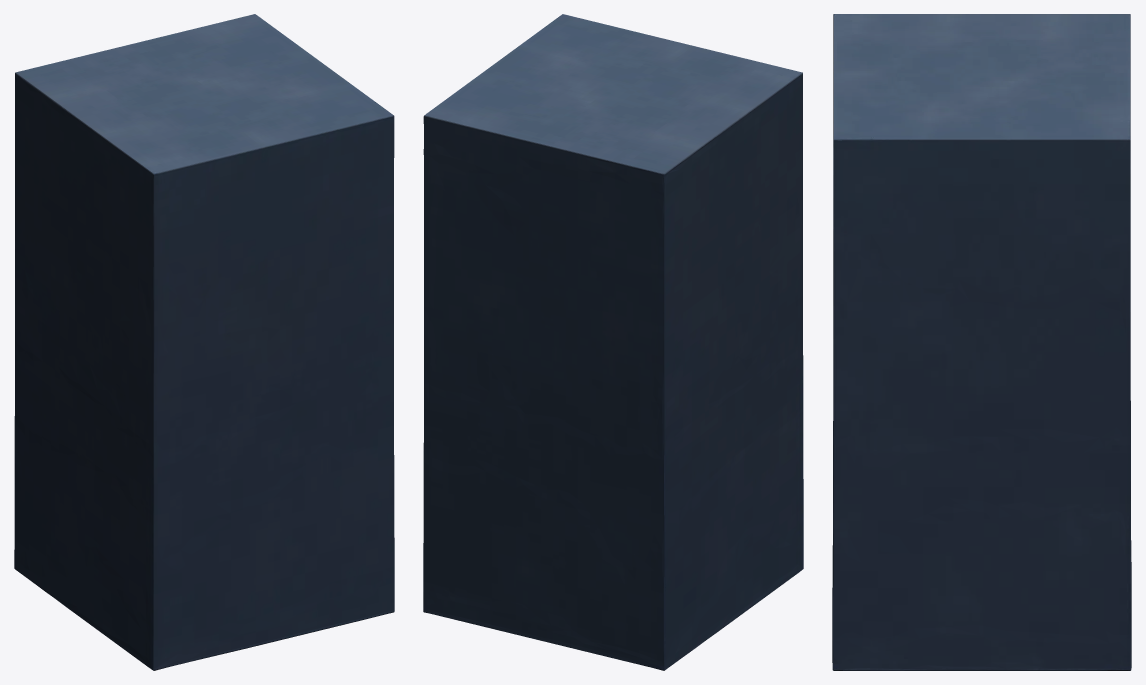
3 views of the same model, side by side, from view 1: azimuth 30°, elevation 25°; view 2: azimuth 150°, elevation 25°; view 3: azimuth 270°, elevation 25° (orthographic). The views are drawn at different scales.
Visible parts, largest first — view 1: world; view 2: world; view 3: world.
Boxes of the visible parts, x1,y1,x2,y2 form: world: [14, 14, 394, 670]; world: [423, 14, 803, 670]; world: [832, 14, 1131, 670].
Bounding box in the file's own units: 0.51 × 1 × 0.5105.
Materials: 1 (1 with a texture image).
